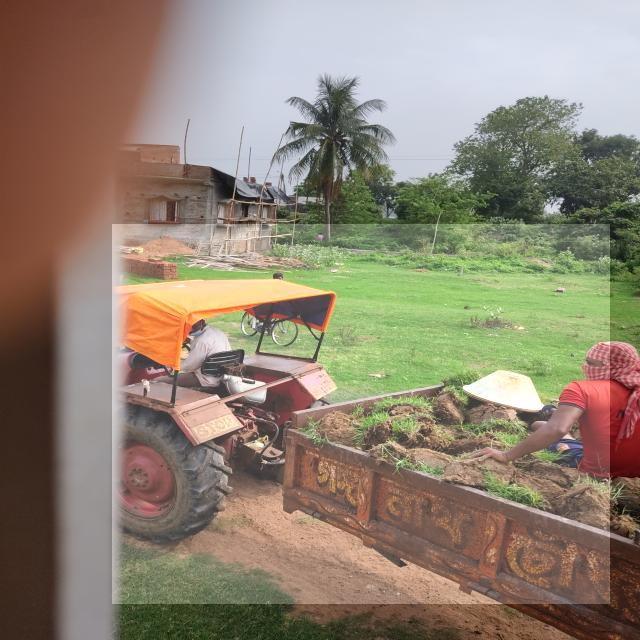Tractot: (112, 225, 610, 604)
